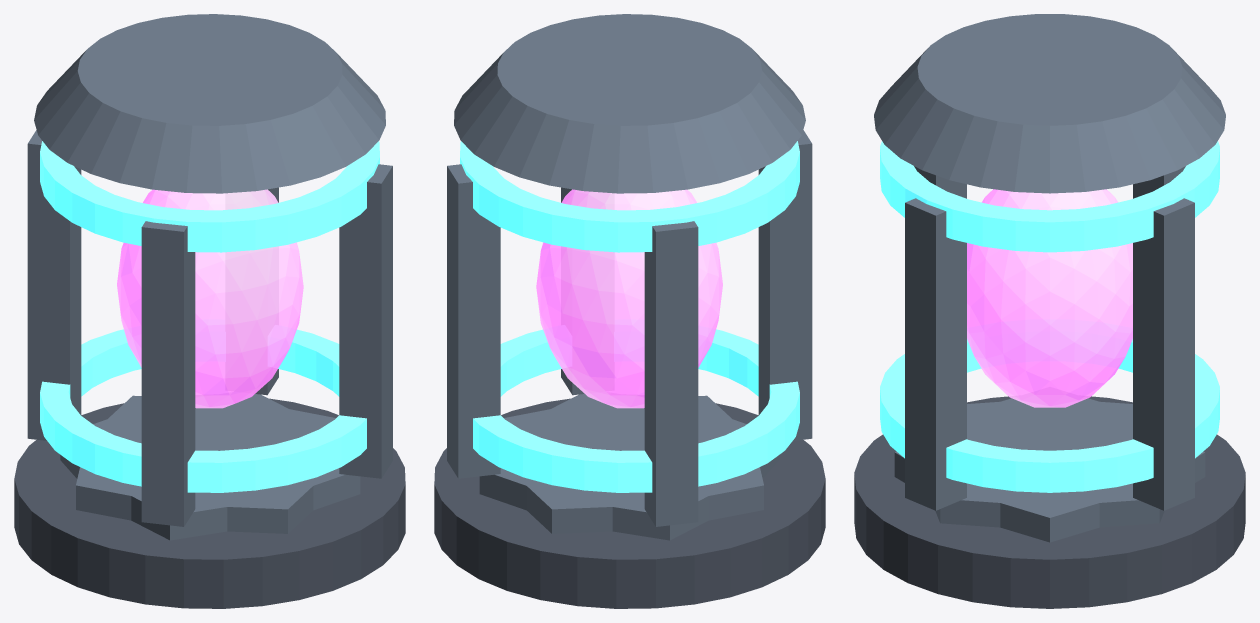
File: AXM-ENERGY-CORE-001_LOD1.glb
3 renders of one model, left to right at view 1: azimuth 30°, elevation 25°; view 2: azimuth 150°, elevation 25°; view 3: azimuth 270°, elevation 25°, orthographic.
Visible parts, largest first — view 1: cap, base, core, lower_ring, base_gear, pillar__r02, upper_ring, pillar__r03, pillar__r01; view 2: cap, base, core, lower_ring, base_gear, pillar__r01, upper_ring, pillar__r00, pillar__r02; view 3: cap, base, core, pillar__r00, pillar__r03, base_gear, upper_ring, lower_ring, pillar__r01, pillar__r02.
Boxes of the visible parts, x1,y1,x2,y2 form: cap: [34, 14, 385, 193]; base: [14, 398, 405, 608]; core: [117, 189, 303, 408]; lower_ring: [40, 329, 366, 492]; base_gear: [60, 394, 360, 540]; pillar__r02: [141, 221, 195, 526]; upper_ring: [40, 141, 379, 252]; pillar__r03: [339, 164, 392, 478]; pillar__r01: [27, 130, 81, 440]; cap: [454, 14, 805, 193]; base: [434, 398, 825, 608]; core: [536, 189, 722, 408]; lower_ring: [473, 329, 799, 492]; base_gear: [479, 394, 779, 540]; pillar__r01: [644, 221, 698, 526]; upper_ring: [460, 141, 799, 252]; pillar__r00: [447, 164, 500, 478]; pillar__r02: [758, 130, 812, 440]; cap: [874, 14, 1225, 193]; base: [854, 396, 1245, 608]; core: [967, 189, 1132, 407]; pillar__r00: [1133, 198, 1194, 510]; pillar__r03: [905, 198, 966, 510]; base_gear: [894, 398, 1205, 542]; upper_ring: [880, 141, 1219, 252]; lower_ring: [880, 338, 1219, 492]; pillar__r01: [1133, 166, 1185, 198]; pillar__r02: [914, 166, 966, 198].
Size of the model in its own units: 1.3 by 1.67 by 1.3.
